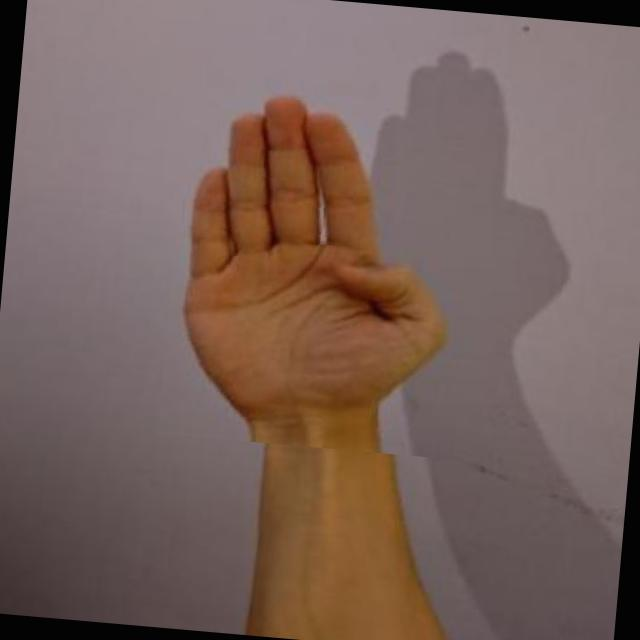B: (158, 70, 496, 460)
